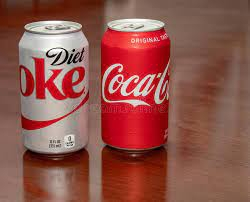can: (14, 19, 92, 158), (99, 16, 173, 155)
